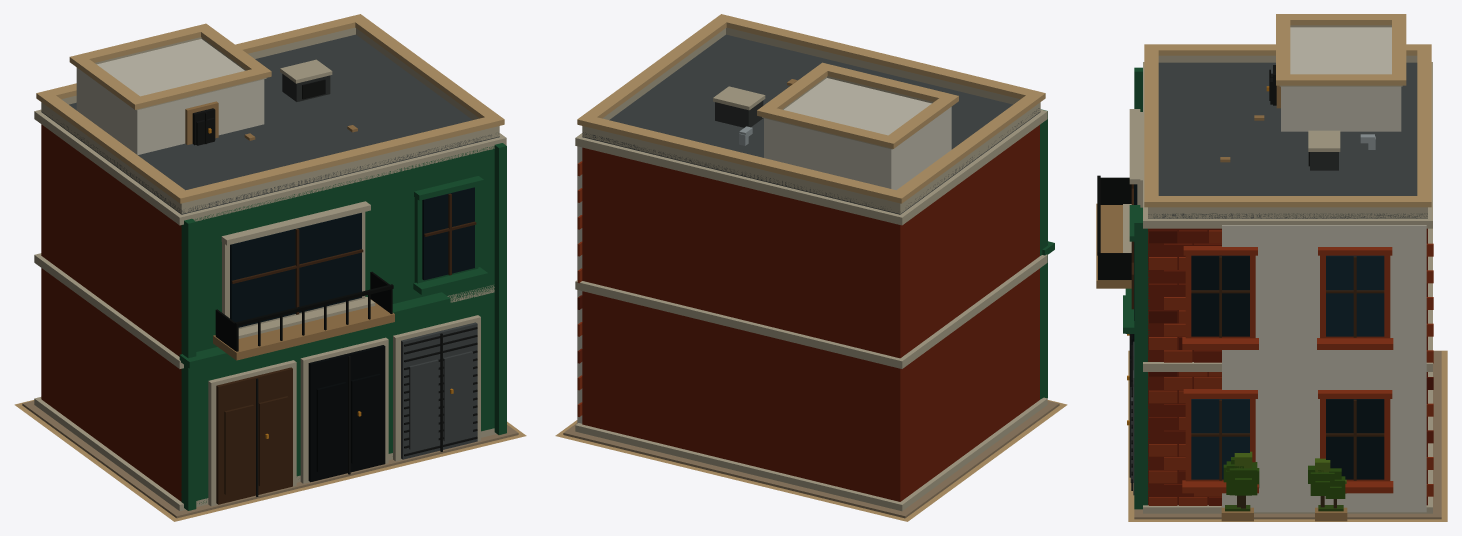
Rendered from SM_Mapa_040.fbx.
3 renders of one model, left to right at view 1: azimuth 30°, elevation 25°; view 2: azimuth 150°, elevation 25°; view 3: azimuth 270°, elevation 25°, orthographic.
Parts seen in each view (by area): view 1: SM_Mapa_040; view 2: SM_Mapa_040; view 3: SM_Mapa_040.
Part boxes in pixels (x1=…): SM_Mapa_040: x1=14, y1=14, x2=526, y2=521; SM_Mapa_040: x1=555, y1=14, x2=1067, y2=521; SM_Mapa_040: x1=1096, y1=14, x2=1447, y2=521.
Bounding box in the file's own units: 8 × 6.75 × 7.49.
